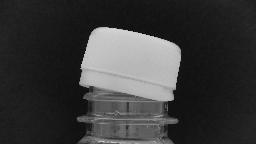Broken Cap: (74, 19, 184, 129)
Loose Cap: (78, 63, 180, 125)
